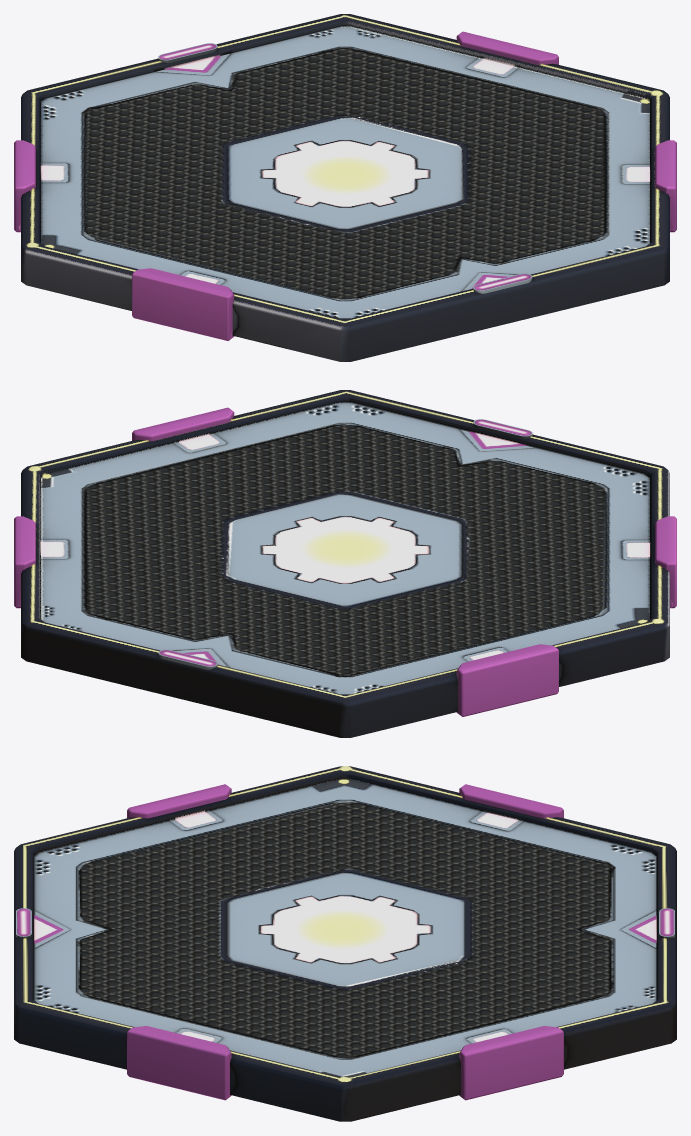
File: HexagonPlatformMedium01_Art.glb
3 renders of one model, top to bottom at view 1: azimuth 30°, elevation 25°; view 2: azimuth 150°, elevation 25°; view 3: azimuth 270°, elevation 25°, orthographic. The views are drawn at different scales.
Parts seen in each view (by area): view 1: HexagonPlatformMedium01_Art; view 2: HexagonPlatformMedium01_Art; view 3: HexagonPlatformMedium01_Art.
Boxes of the visible parts, box(x1,y1,x2,y2) form: HexagonPlatformMedium01_Art: box(14, 14, 676, 361); HexagonPlatformMedium01_Art: box(14, 390, 676, 737); HexagonPlatformMedium01_Art: box(14, 766, 676, 1121).
Bounding box in the file's own units: 11.9 × 0.8119 × 10.39.
1 material, 1 textured.
